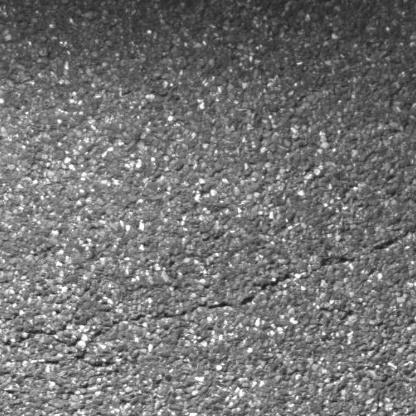Cracks: (78, 253, 358, 359), (0, 326, 65, 351)
